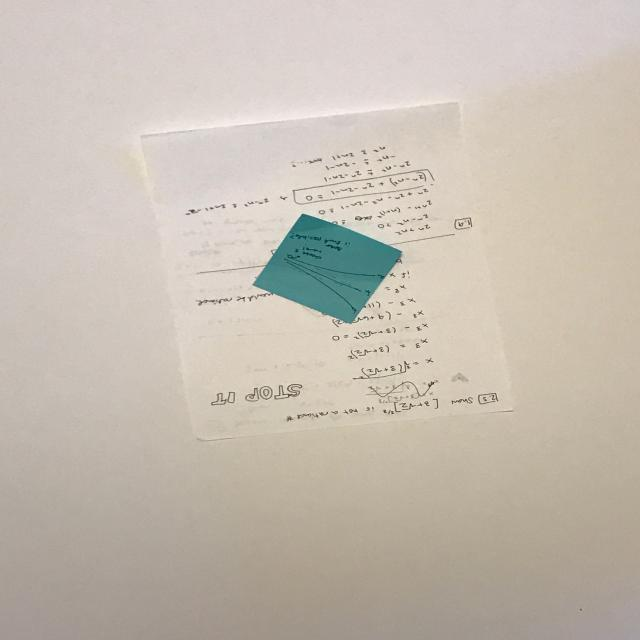Paper: (122, 86, 538, 450)
